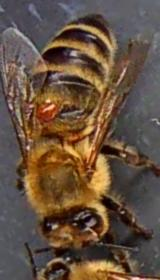varroa_mite: (30, 96, 66, 122)
